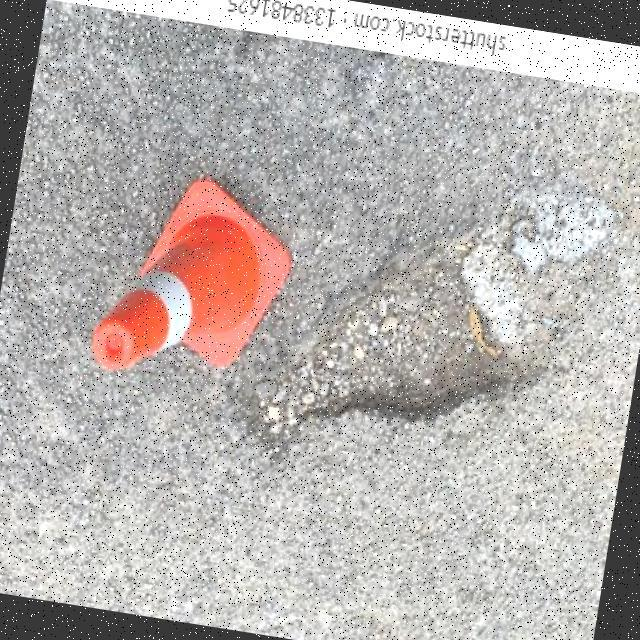Pothole: (253, 206, 610, 446)
